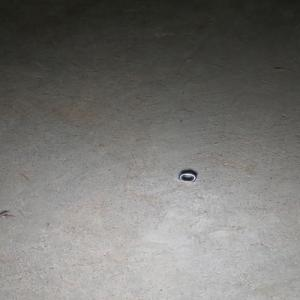Nut: (178, 171, 197, 183)
